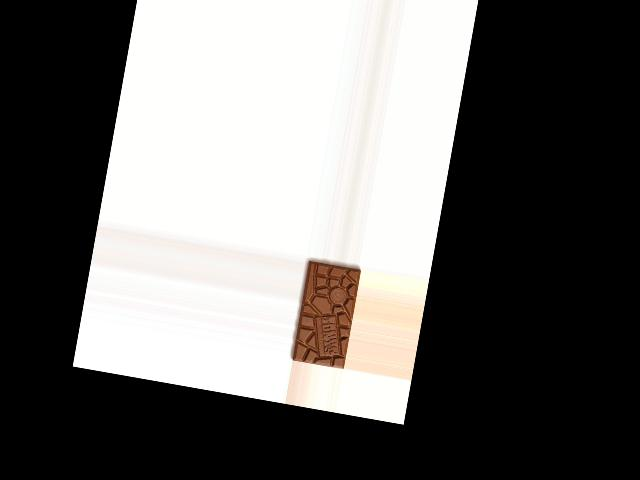chocolate: (289, 259, 361, 369)
